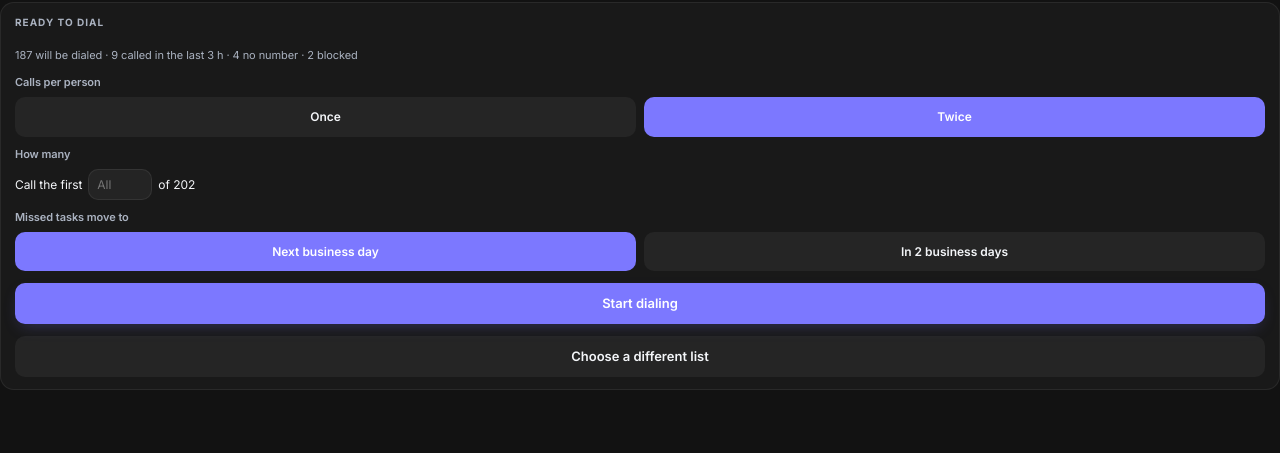
Scenario: Ready to dial — run settings › a refused Start (409) saved nothing, so App is not told to re-read
Click the button "Start dialing" at (640, 304), box [15,283,1265,324]
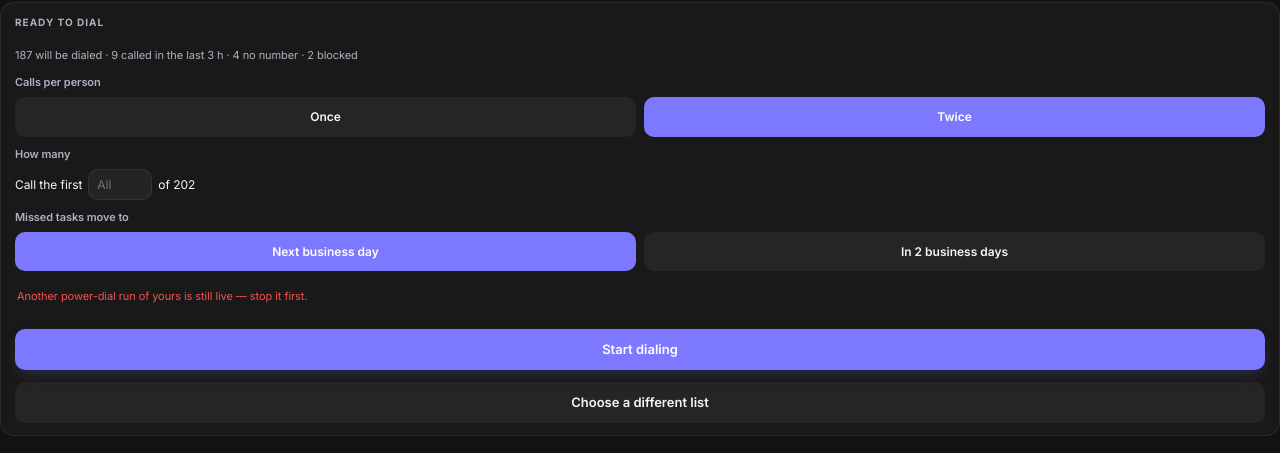
Check: the text "Another power-dial run of yours is still live — stop it first." is shown, box [17,289,308,303]
